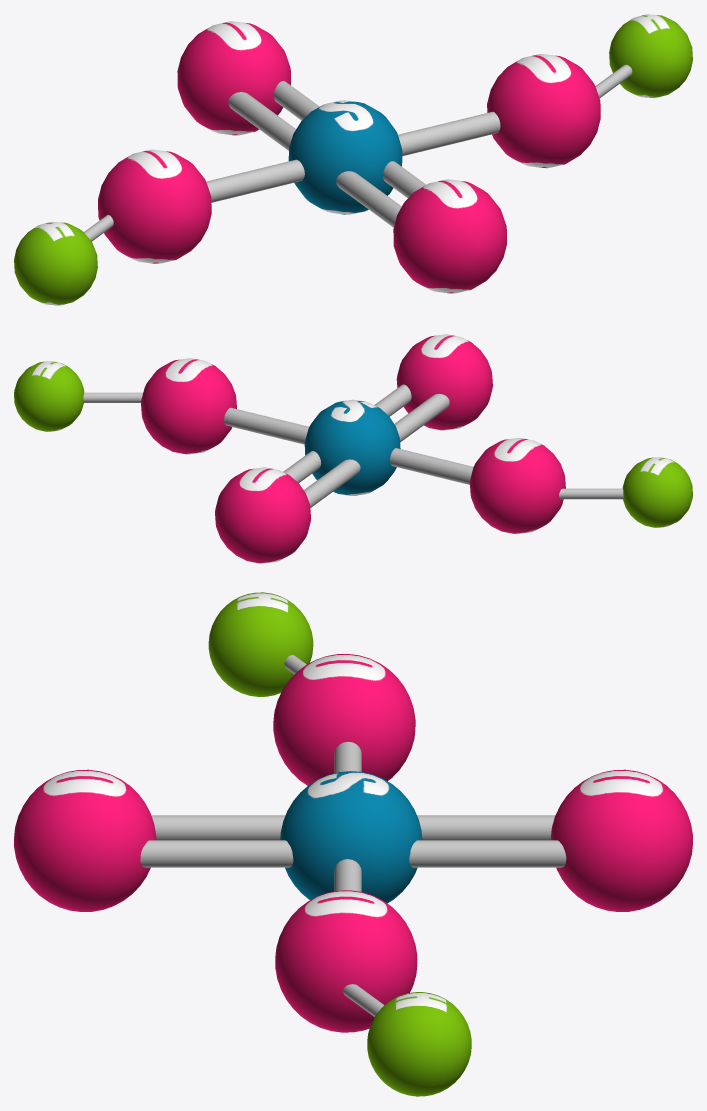
Rendered from SM_Molecule_4.fbx.
The picture shows the model from 3 angles, top to bottom: view 1: azimuth 30°, elevation 25°; view 2: azimuth 150°, elevation 25°; view 3: azimuth 270°, elevation 25°; orthographic projection. The views are drawn at different scales.
Visible parts, largest first — view 1: Oxygen1, Oxygen, Oxygen2, Oxygen3, Sulphur, Hydrogen, Hydrogen12, bond26, bond22, bond21, bond25, bond (+2 smaller); view 2: Oxygen3, Oxygen, Oxygen2, Oxygen1, Sulphur, Hydrogen, Hydrogen12, bond26, bond22, bond21, bond25, bond23 (+3 smaller); view 3: Oxygen3, Oxygen1, Oxygen2, Oxygen, Sulphur, Hydrogen12, Hydrogen, bond, bond27, bond21, bond25, bond26 (+1 smaller).
Boxes of the visible parts, bbox=[...] form: Oxygen1: bbox=[393, 179, 506, 293]; Oxygen: bbox=[98, 149, 211, 263]; Oxygen2: bbox=[487, 54, 600, 168]; Oxygen3: bbox=[177, 21, 290, 135]; Sulphur: bbox=[288, 100, 402, 214]; Hydrogen: bbox=[14, 221, 97, 305]; Hydrogen12: bbox=[609, 14, 692, 98]; bond26: bbox=[398, 111, 500, 156]; bond22: bbox=[206, 159, 304, 202]; bond21: bbox=[228, 92, 295, 150]; bond25: bbox=[336, 171, 401, 227]; bond: bbox=[273, 81, 319, 120]; Oxygen3: bbox=[215, 467, 310, 563]; Oxygen: bbox=[469, 437, 565, 534]; Oxygen2: bbox=[141, 358, 236, 454]; Oxygen1: bbox=[396, 334, 492, 430]; Sulphur: bbox=[304, 399, 400, 495]; Hydrogen: bbox=[622, 457, 692, 527]; Hydrogen12: bbox=[14, 361, 84, 431]; bond26: bbox=[224, 407, 308, 444]; bond22: bbox=[390, 448, 473, 484]; bond21: bbox=[304, 459, 360, 507]; bond25: bbox=[394, 394, 449, 441]; bond23: bbox=[559, 488, 623, 499]; Oxygen3: bbox=[551, 769, 692, 911]; Oxygen1: bbox=[14, 769, 156, 911]; Oxygen2: bbox=[275, 890, 417, 1032]; Oxygen: bbox=[273, 654, 415, 785]; Sulphur: bbox=[280, 771, 422, 903]; Hydrogen12: bbox=[367, 992, 471, 1096]; Hydrogen: bbox=[208, 592, 313, 696]; bond: bbox=[409, 840, 566, 867]; bond27: bbox=[140, 840, 293, 867]; bond21: bbox=[417, 815, 555, 840]; bond25: bbox=[151, 815, 285, 840]; bond26: bbox=[334, 859, 361, 891].
Bounding box in the file's own units: 407 × 54.87 × 263.
